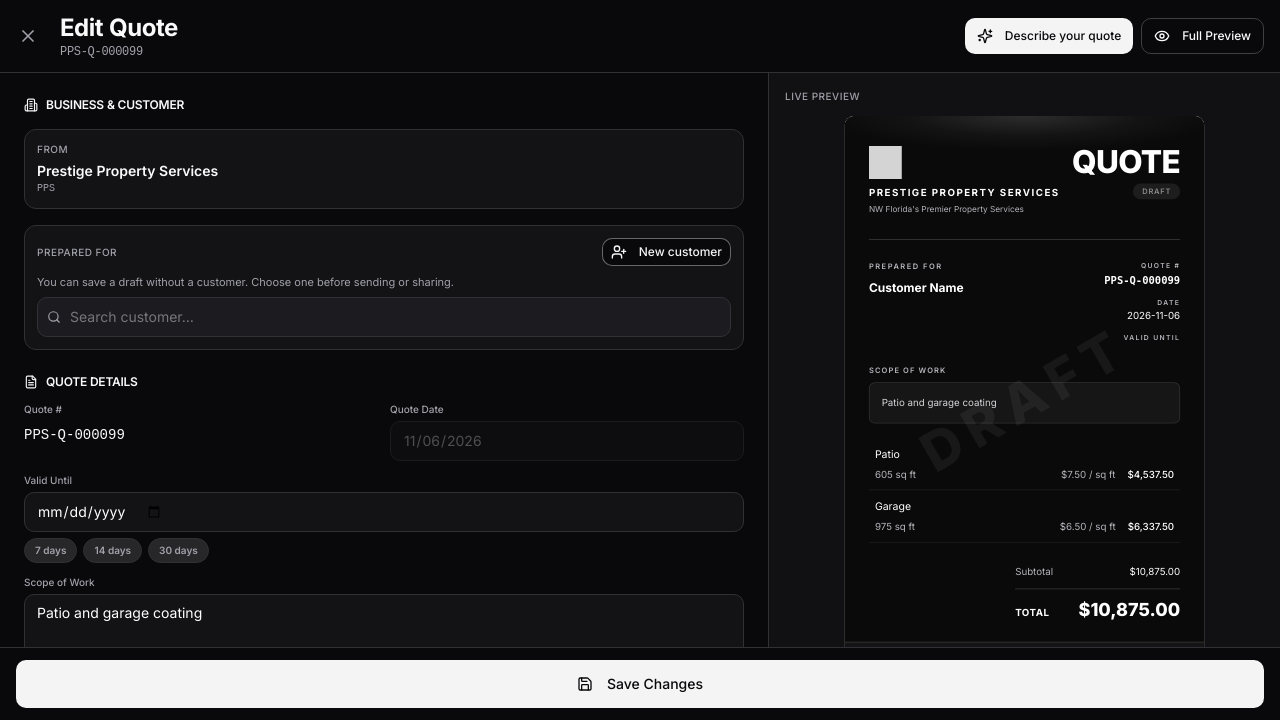
Test: Unassigned draft customer selection › rejects a foreign-workspace customer at the server and leaves the draft unassigned
Later steps or results of the test are not shown.
Focus the field with placeholder "Search customer…" at (384, 316), box 37,296 -> 731,336
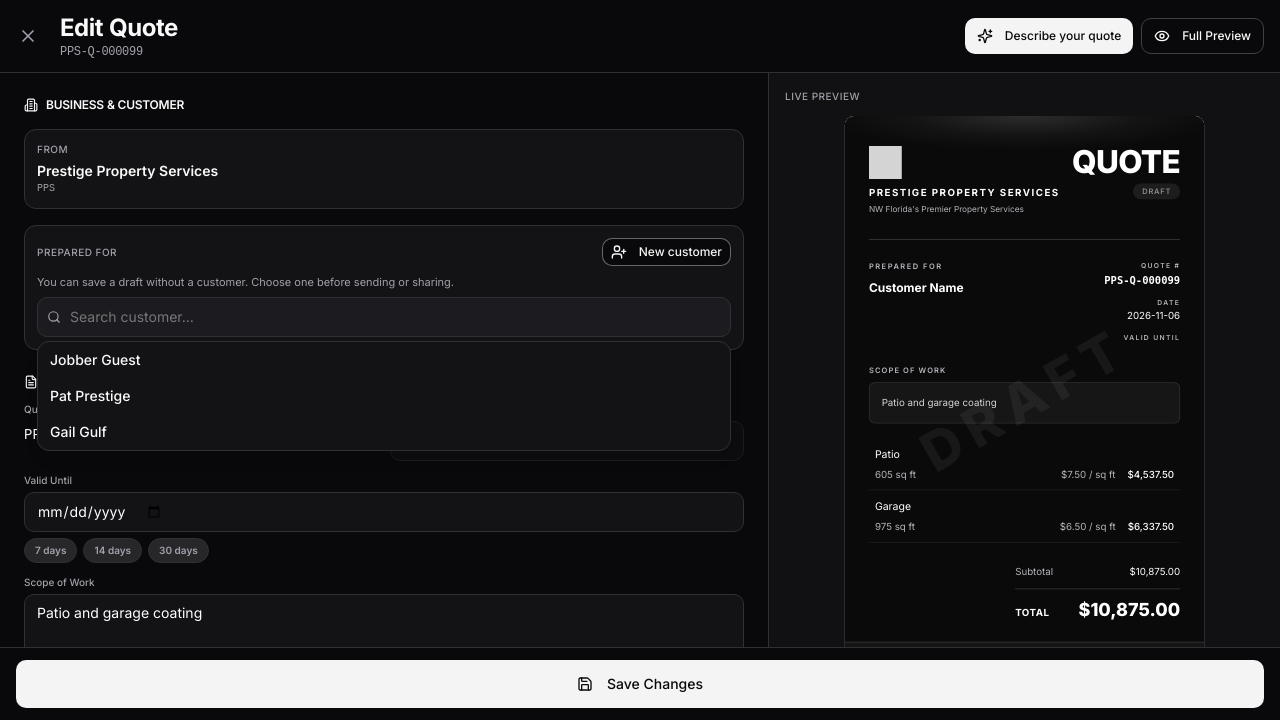
Check: the text "Gail Gulf" is shown, box 50,422 -> 107,440
